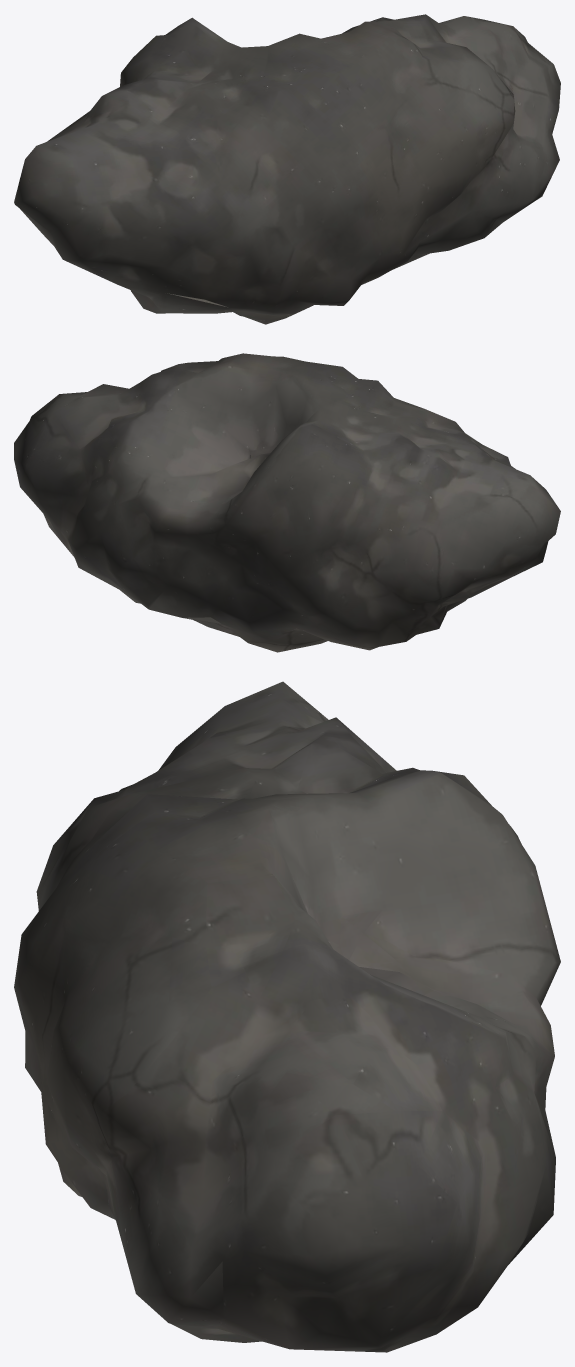
The model's file is asteroid_3.glb.
3 views of the same model, one above another, from view 1: azimuth 30°, elevation 25°; view 2: azimuth 150°, elevation 25°; view 3: azimuth 270°, elevation 25° (orthographic). The views are drawn at different scales.
Parts seen in each view (by area): view 1: lod0; view 2: lod0; view 3: lod0.
Boxes of the visible parts, box(x1,y1,x2,y2) form: lod0: box(14, 14, 560, 324); lod0: box(14, 353, 560, 652); lod0: box(14, 681, 560, 1352).
Size of what is drawn, in the model's own units: 24 by 11.4 by 11.82.
Materials: 1 (1 with a texture image).
